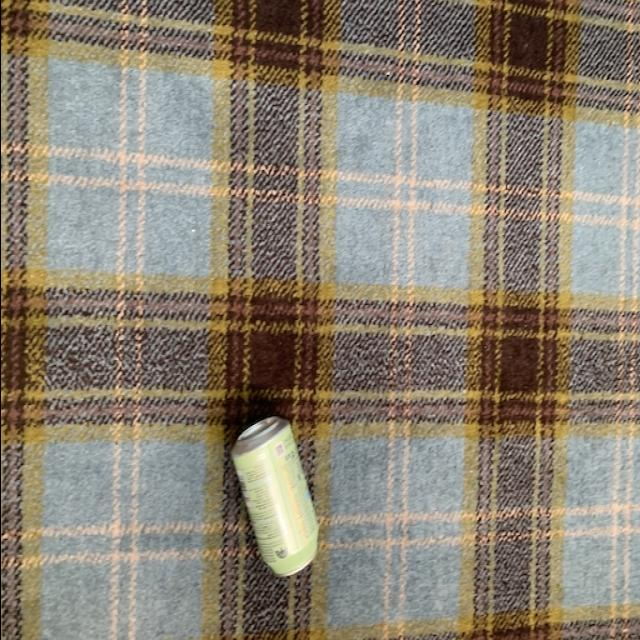Aluminum Can: (228, 412, 320, 582)
